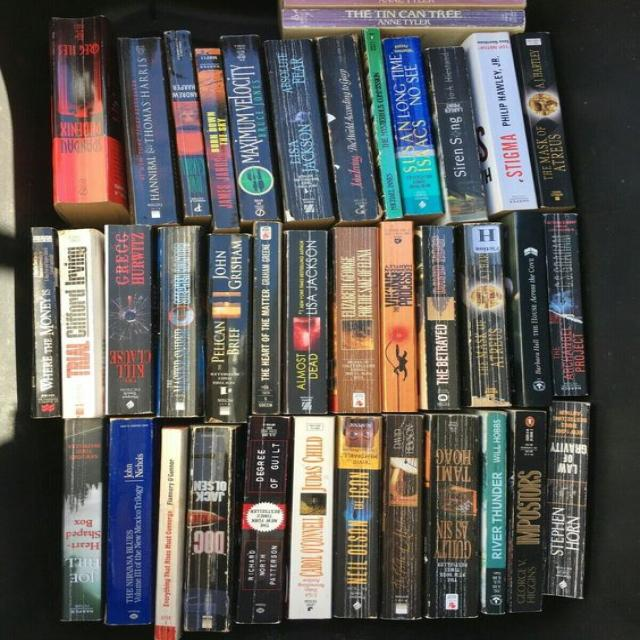book: (462, 33, 537, 214), (266, 40, 334, 226), (183, 426, 242, 631), (318, 36, 381, 223), (423, 414, 480, 618), (53, 16, 113, 205), (236, 416, 290, 624), (119, 37, 178, 226), (221, 35, 278, 225), (426, 47, 487, 222), (384, 37, 443, 217), (514, 32, 573, 210), (104, 419, 154, 625), (455, 223, 510, 407), (279, 0, 524, 41), (500, 211, 551, 407), (155, 226, 205, 417), (287, 416, 334, 619), (334, 416, 380, 618), (279, 231, 328, 414), (204, 233, 251, 422), (332, 226, 379, 414), (58, 229, 104, 419), (165, 31, 210, 224), (545, 401, 589, 598), (380, 415, 422, 619), (106, 226, 151, 415), (62, 420, 103, 621), (416, 225, 460, 409), (195, 48, 238, 231), (544, 214, 587, 397), (508, 410, 546, 611), (379, 221, 418, 412), (363, 31, 402, 219), (154, 426, 186, 639), (478, 411, 507, 614), (251, 222, 280, 414), (32, 227, 59, 418)
